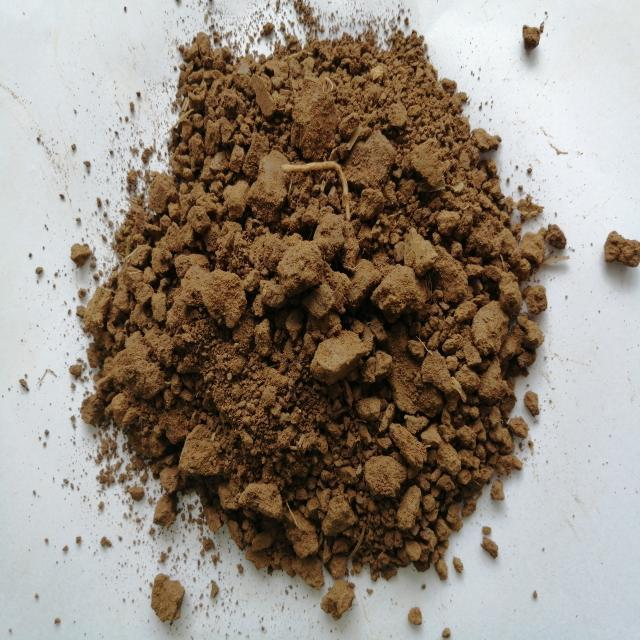soil: (168, 164, 472, 488)
